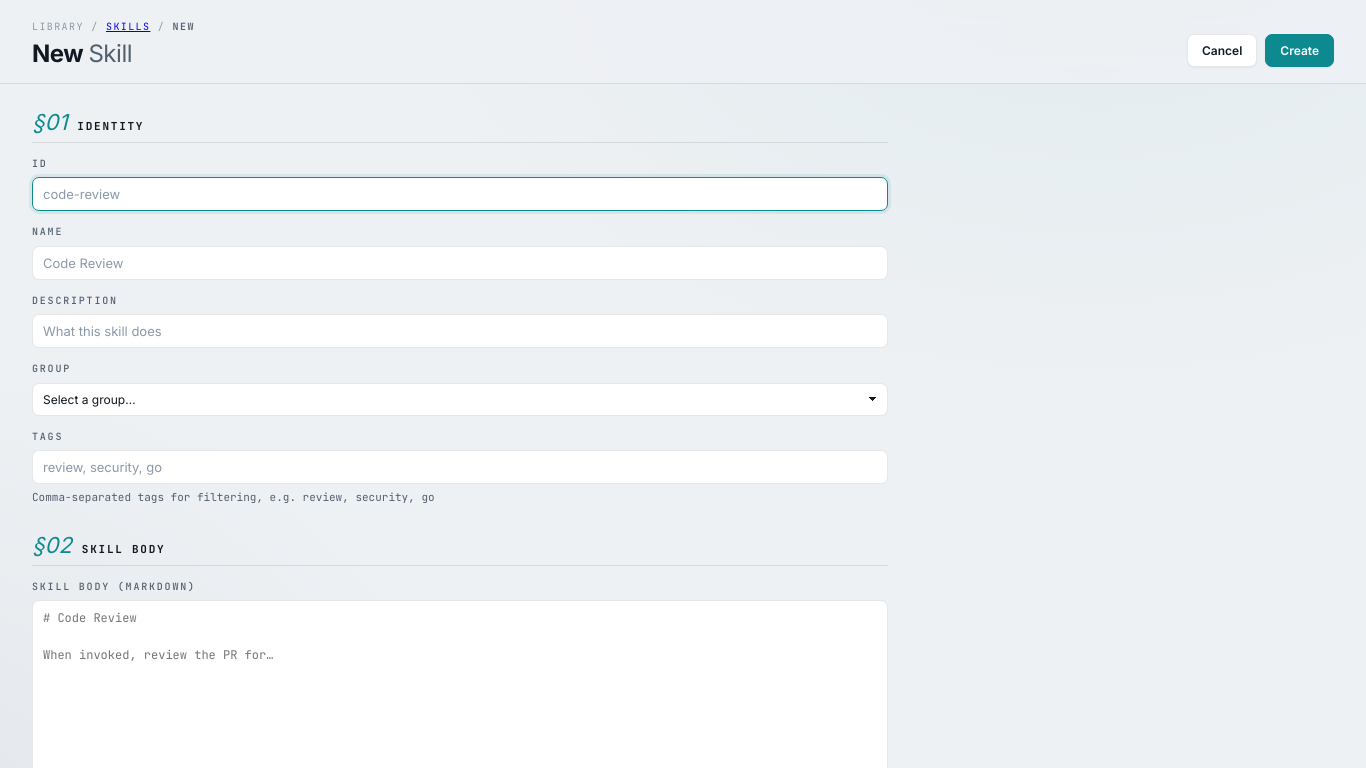
Test: SkillForm › shows validation error when name is empty
The image size is (1366, 768).
Click the button "Create": (1300, 50) [1265,34,1334,67]
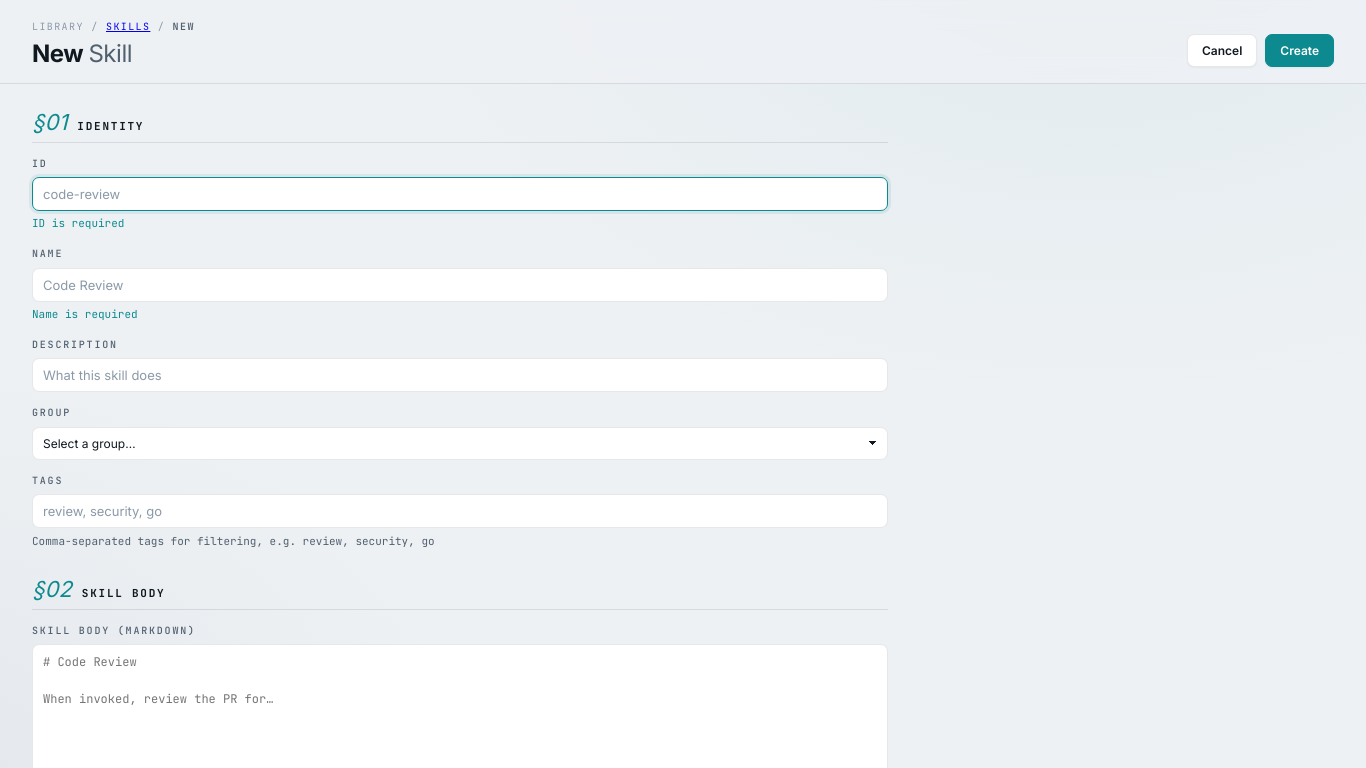
Now the text "ID is required" is shown, box [32,217,124,231]
Now the text "Name is required" is shown, box [32,308,138,322]
